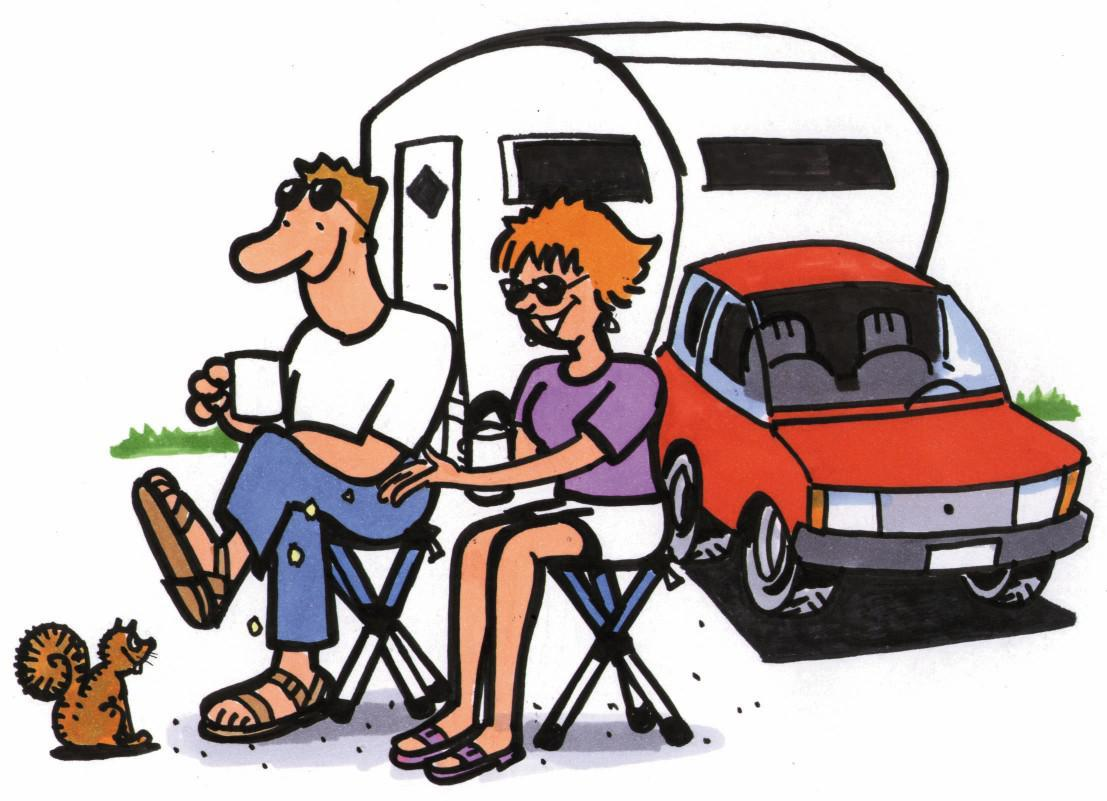car: (643, 238, 1095, 626)
chair: (544, 552, 702, 754), (317, 521, 455, 721)
person: (134, 149, 475, 745), (391, 191, 668, 780)
